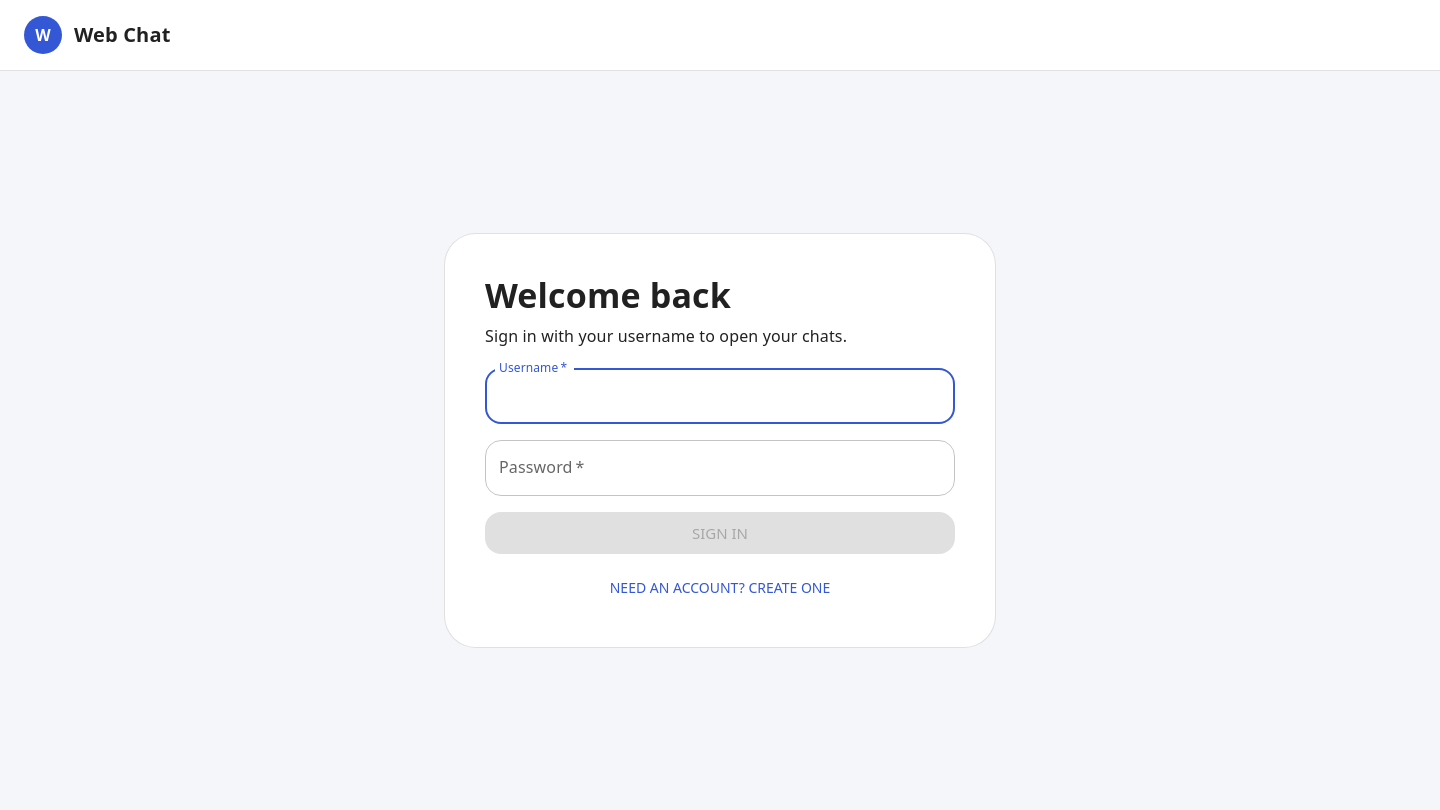
Test case: chat application › retries conversation history after a permission error
Type "alice" into the field labelled "Username" at (720, 396), box [485,368,955,424]
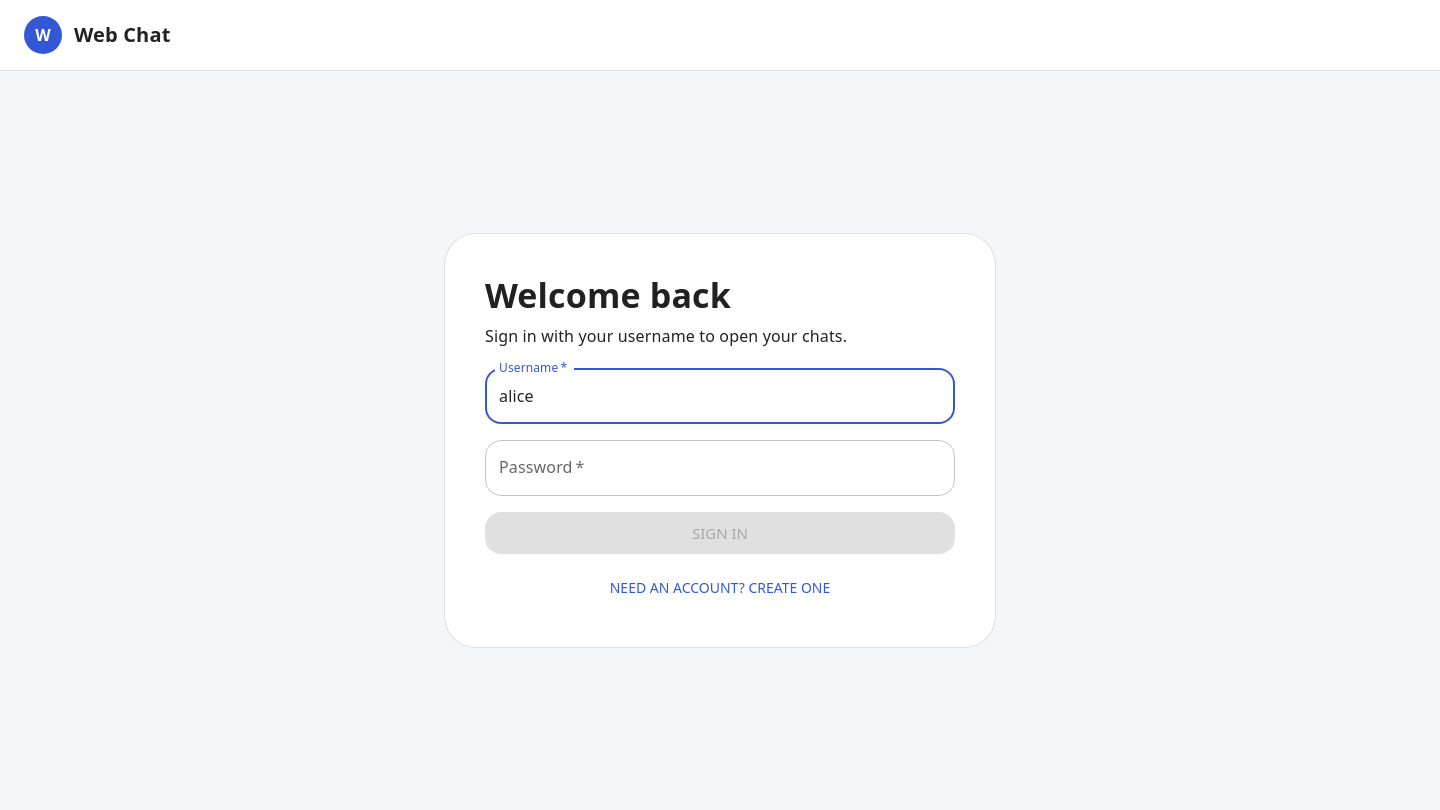
Type "correct-password" into the password field labelled "Password *" at (720, 468), box [485,440,955,496]
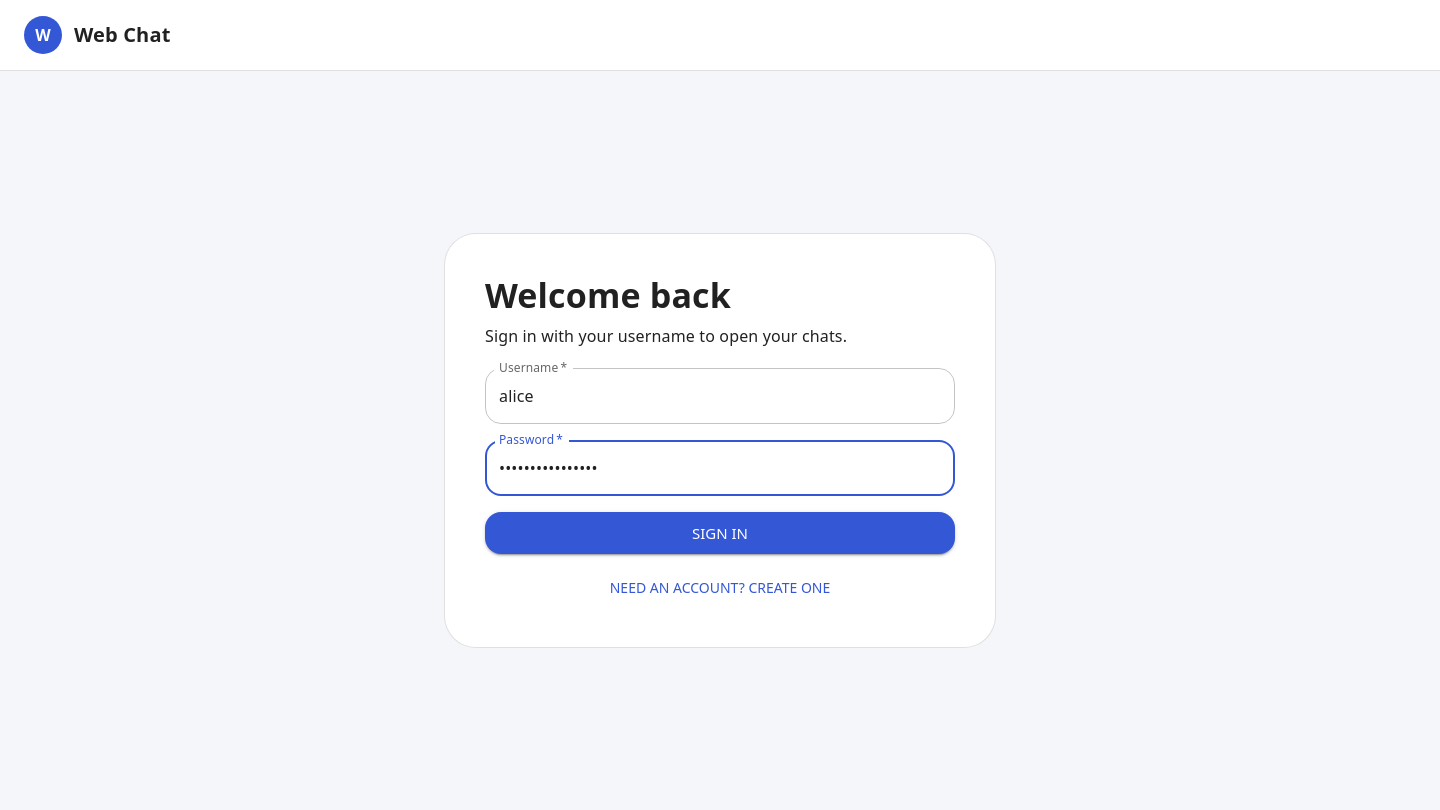
Click the button "Sign in" at (720, 533), box [485,512,955,554]
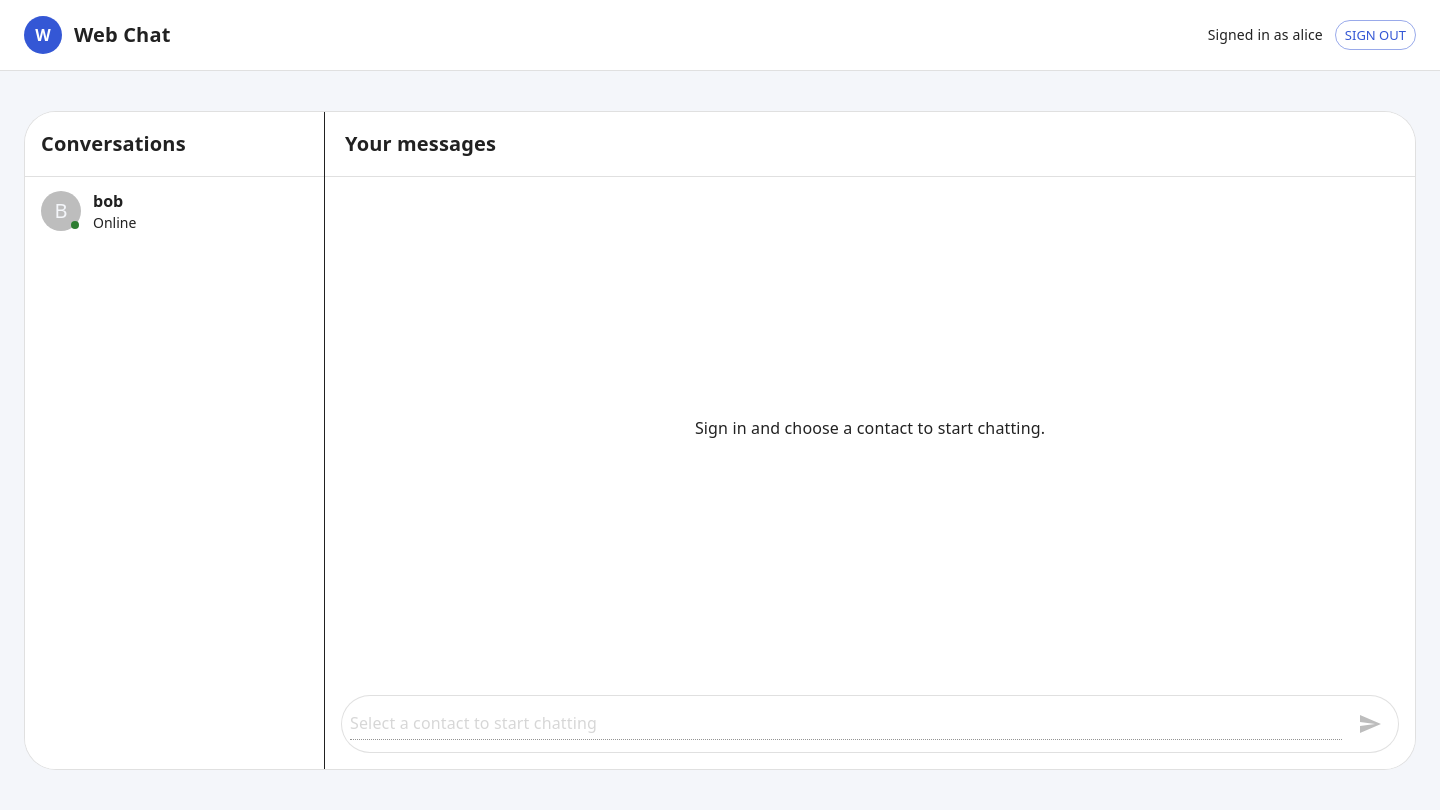
Click the button "B bob Online" at (61, 211), box [25,177,324,245]
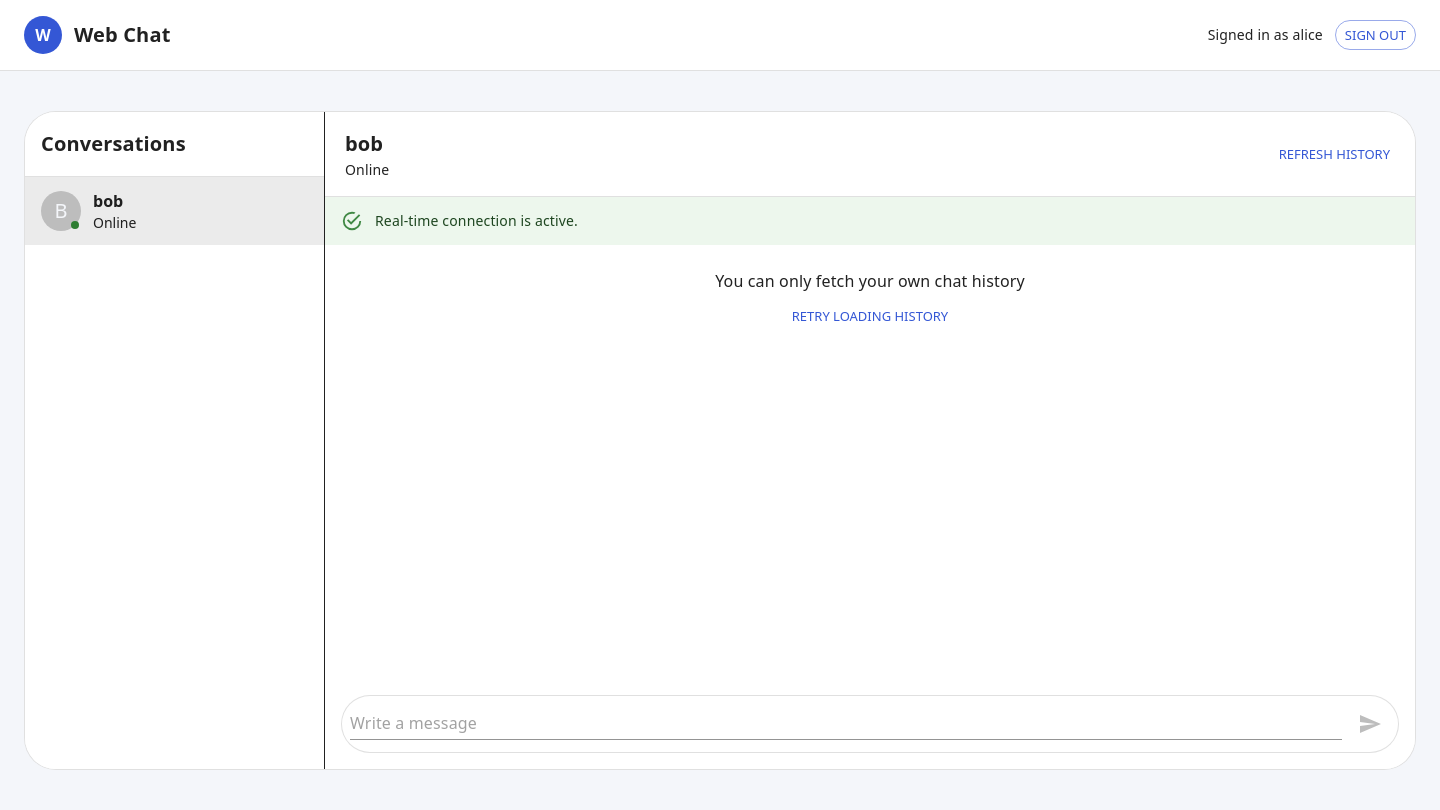
Now the text "You can only fetch your own chat history" is shown, box [715,270,1025,292]
Click the button "Retry loading history" at (870, 316), box [365,301,1375,332]
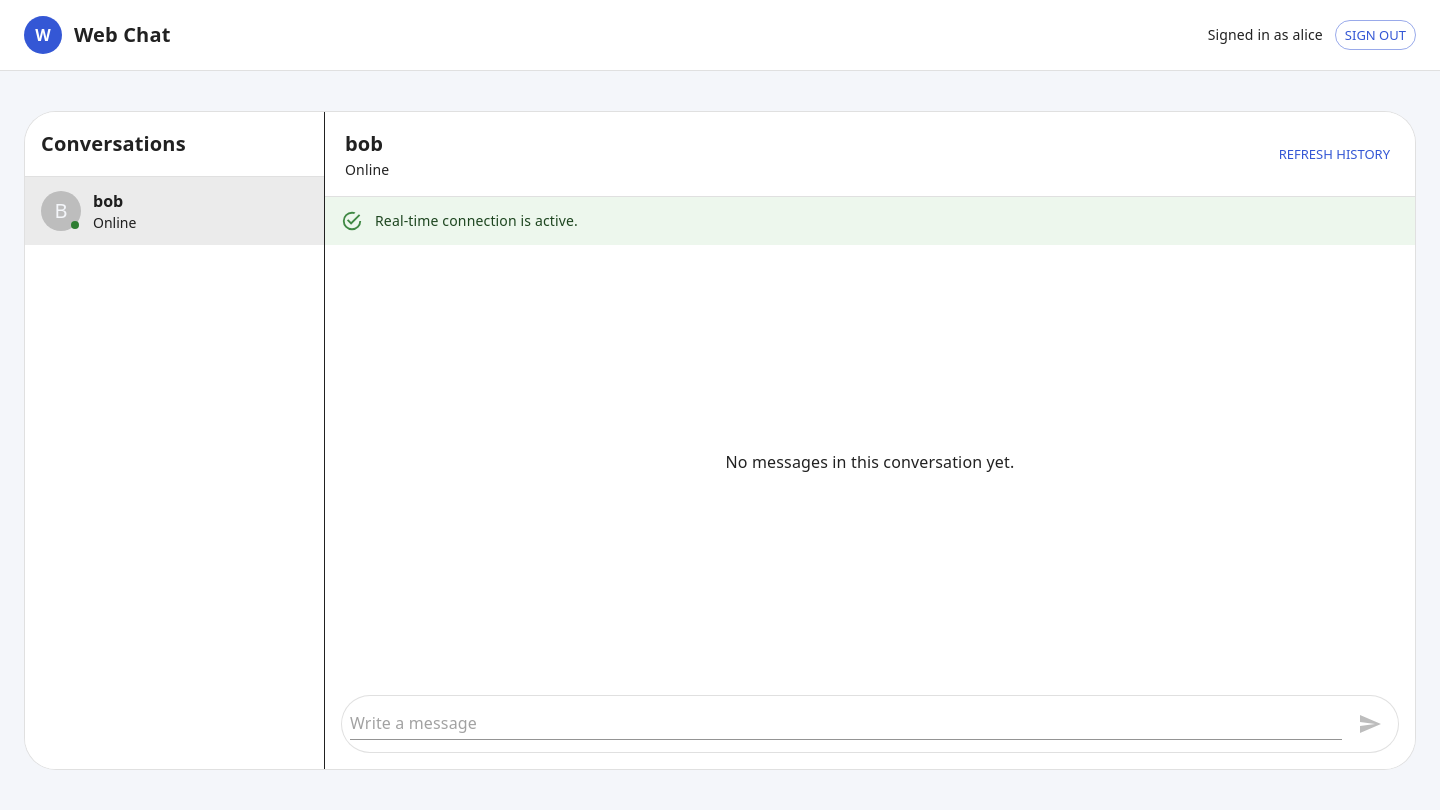
Now the button "Refresh history" is enabled, box [1274,139,1395,169]
Now the text "No messages in this conversation yet." is shown, box [726,450,1014,474]
